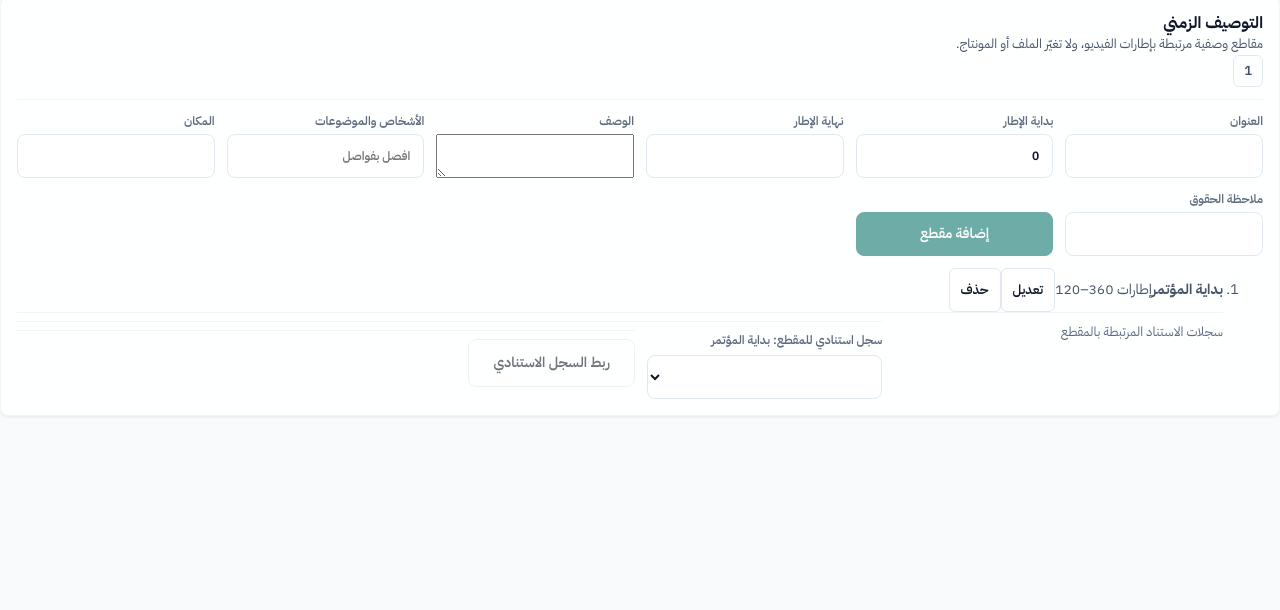
Scenario: TimedDescriptionSegmentsPanel › updates the selected segment's corrected frame bounds and description
Click the button with aria-label "تعديل المقطع: بداية المؤتمر" at x=1028, y=290, box [1000,268,1055,312]
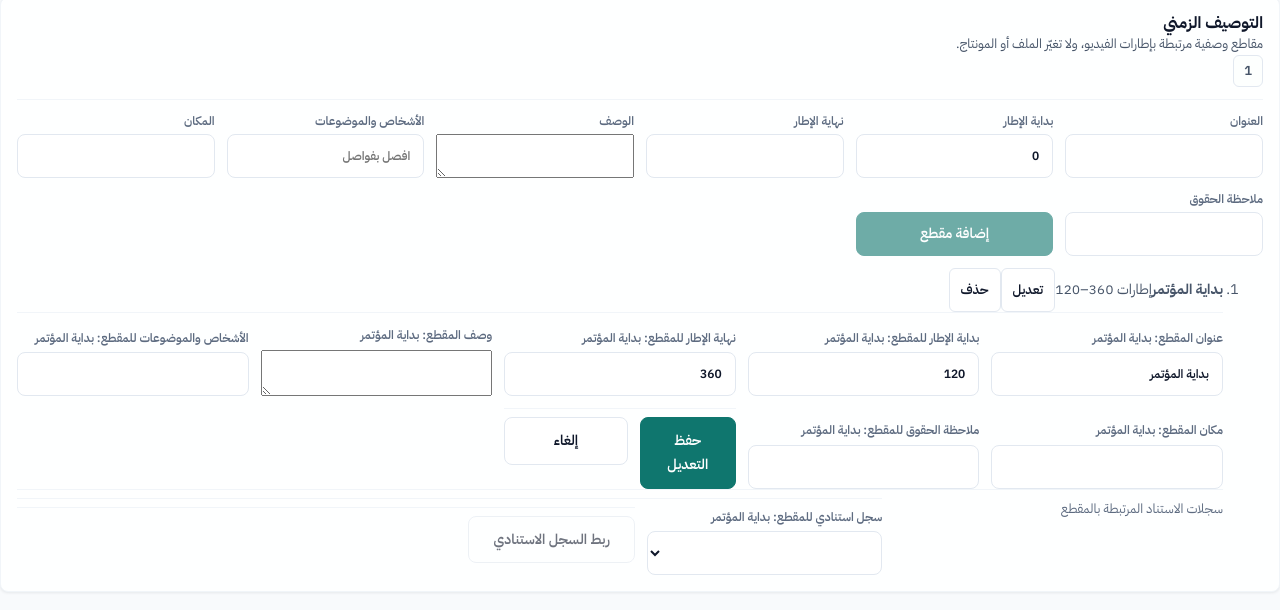
Replace the text in the field labelled "عنوان المقطع: بداية المؤتمر" with "افتتاح المؤتمر" at x=1107, y=374, box [991,352,1223,396]
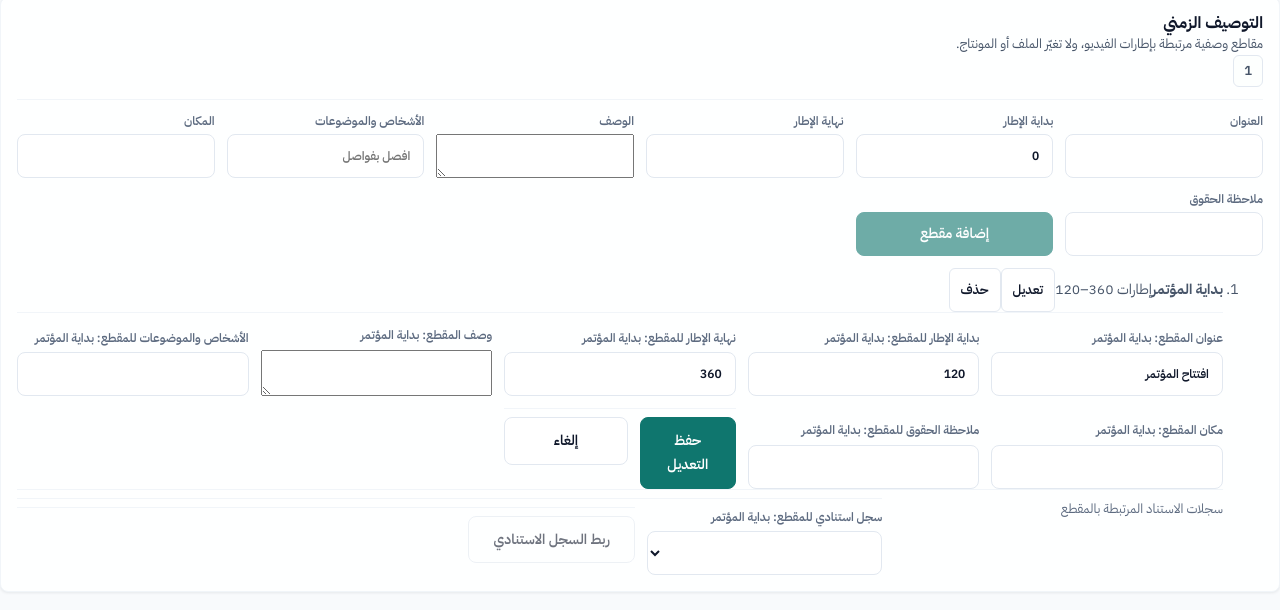
Replace the text in the number field labelled "بداية الإطار للمقطع: بداية المؤتمر" with "150" at x=864, y=374, box [748,352,979,396]
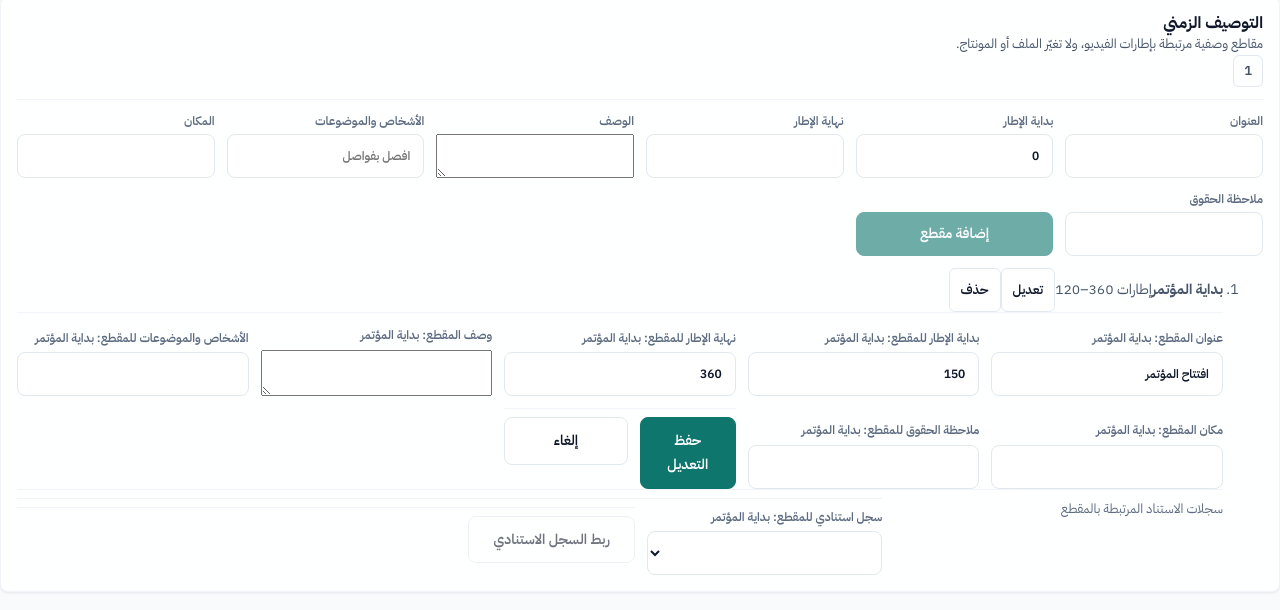
Replace the text in the number field labelled "نهاية الإطار للمقطع: بداية المؤتمر" with "420" at x=620, y=374, box [504,352,736,396]
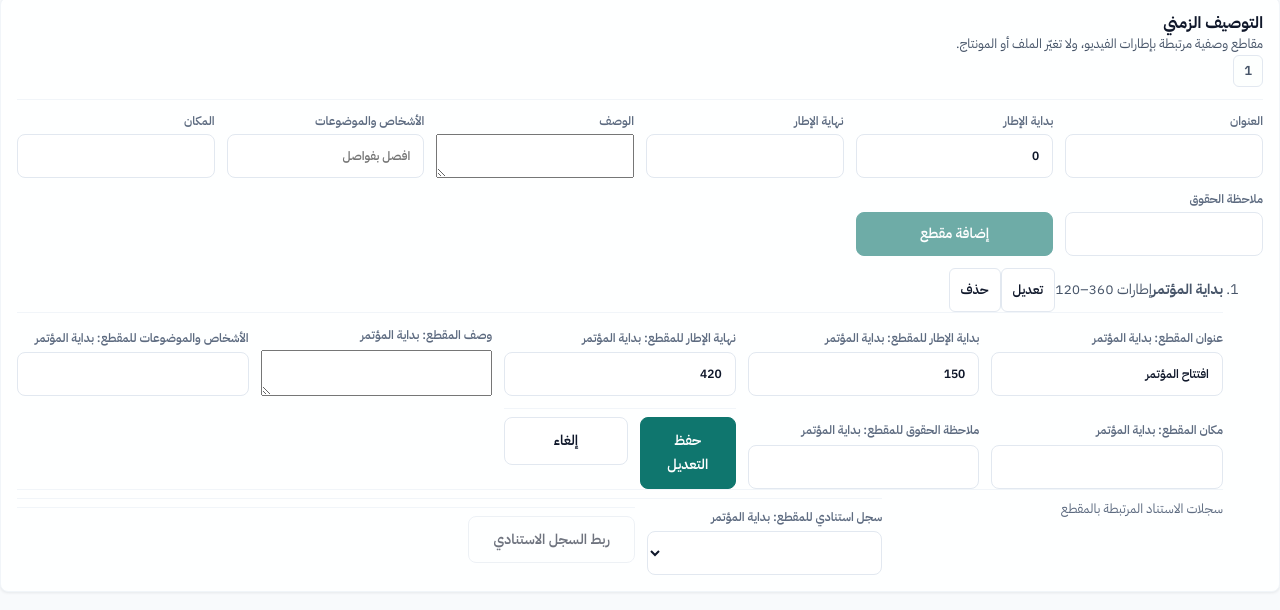
Type "تم تصحيح حدود اللقطة." into the text box labelled "وصف المقطع: بداية المؤتمر" at x=376, y=373, box [261,350,492,396]
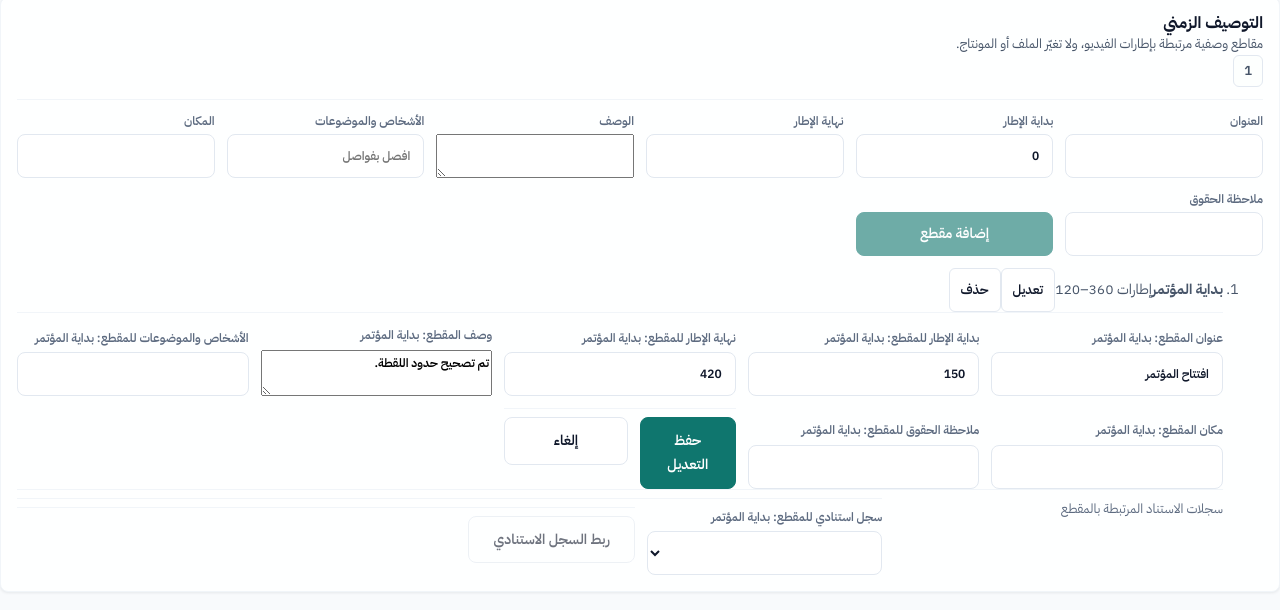
Click the button "حفظ التعديل" at x=688, y=453, box [640,418,736,489]
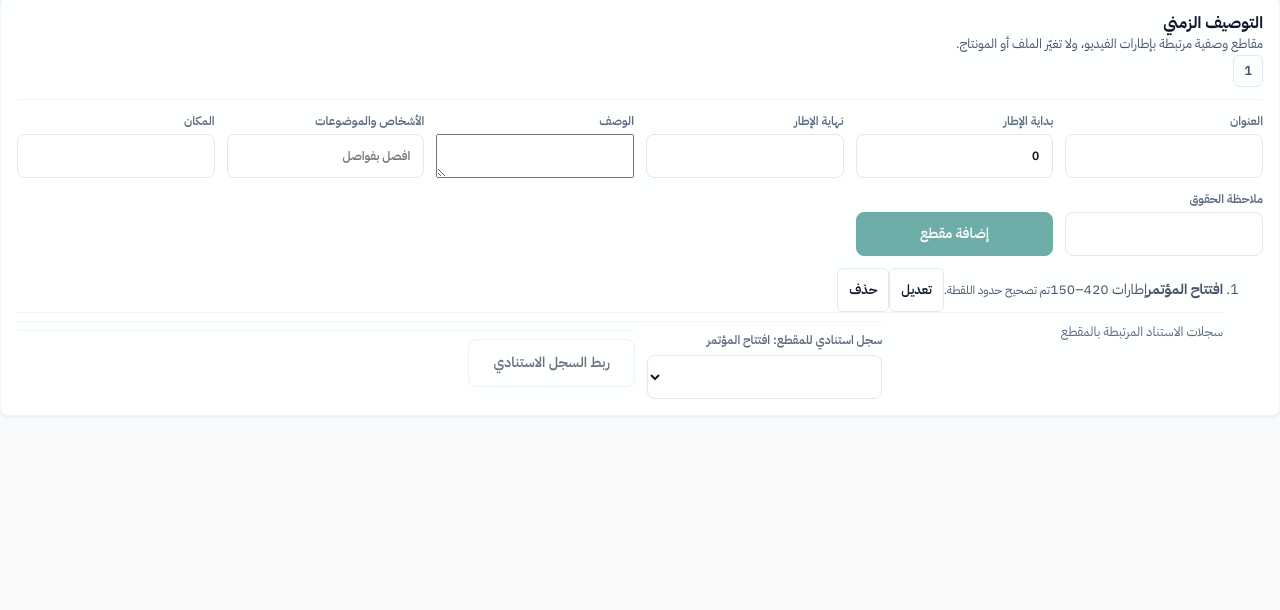
Expected: the text "افتتاح المؤتمر" is shown, [1147,279,1223,300]
